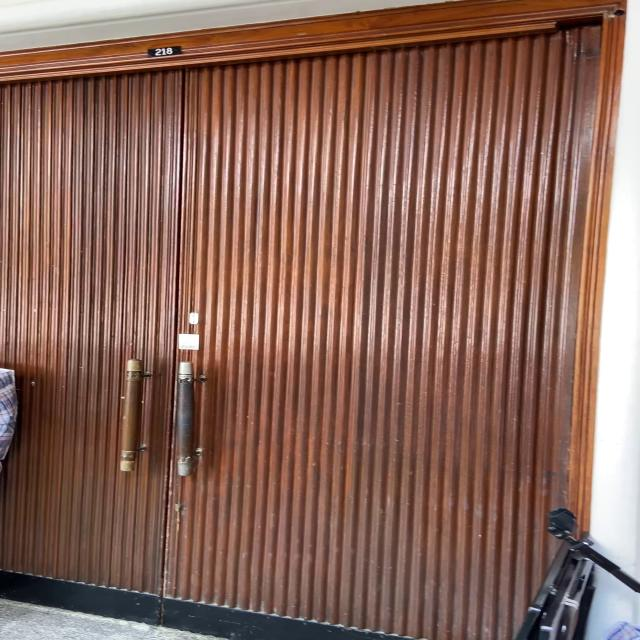room218: (147, 45, 184, 57)
